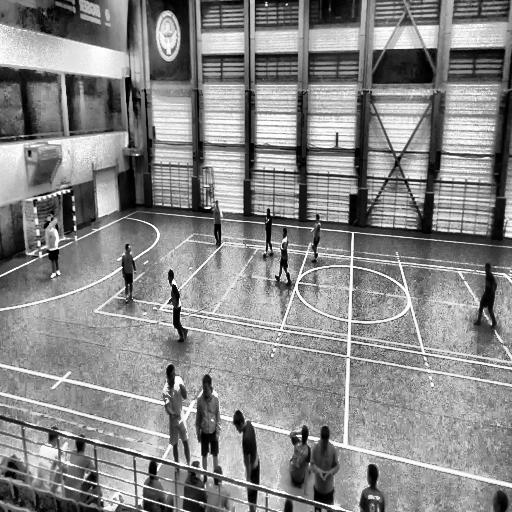player: (163, 362, 192, 468), (233, 409, 261, 512), (195, 373, 222, 478), (309, 425, 339, 512), (474, 262, 498, 328), (168, 269, 188, 344), (44, 211, 62, 279), (276, 227, 292, 284), (122, 242, 136, 302), (264, 208, 274, 258), (213, 199, 223, 247), (312, 214, 321, 264), (48, 205, 58, 233)
